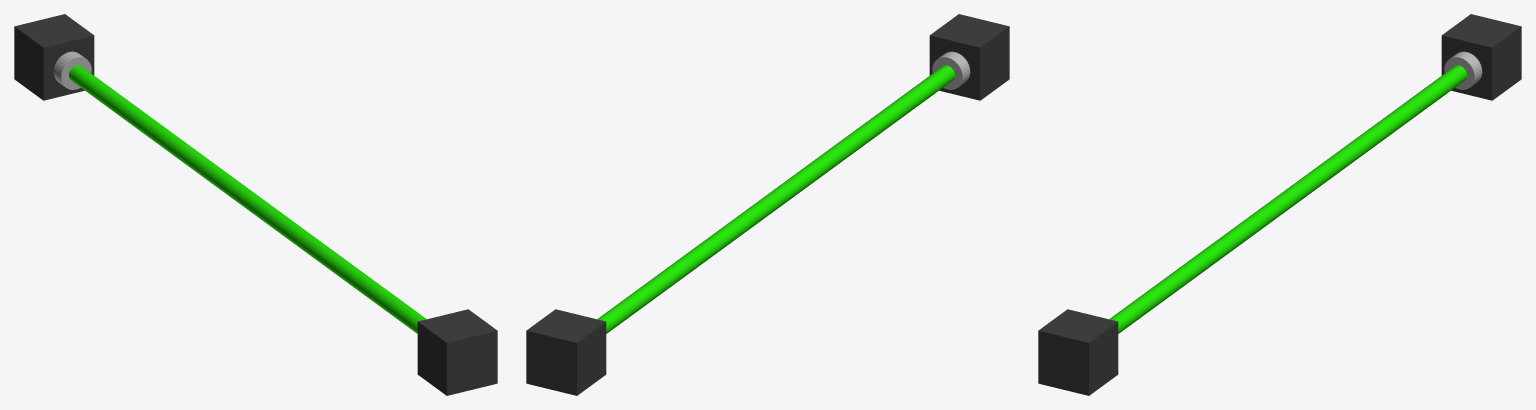
Rendered from moving_laser.fbx.
3 renders of one model, left to right at view 1: azimuth 30°, elevation 25°; view 2: azimuth 150°, elevation 25°; view 3: azimuth 330°, elevation 25°, orthographic.
Visible parts, largest first — view 1: moving_laser; view 2: moving_laser; view 3: moving_laser.
Boxes of the visible parts, box(x1,y1,x2,y2) form: moving_laser: box(14, 14, 497, 395); moving_laser: box(526, 14, 1009, 395); moving_laser: box(1038, 14, 1521, 395).
Bounding box in the file's own units: 43.33 × 43.33 × 641.
